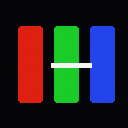3 line_h: (51, 63, 91, 67)
